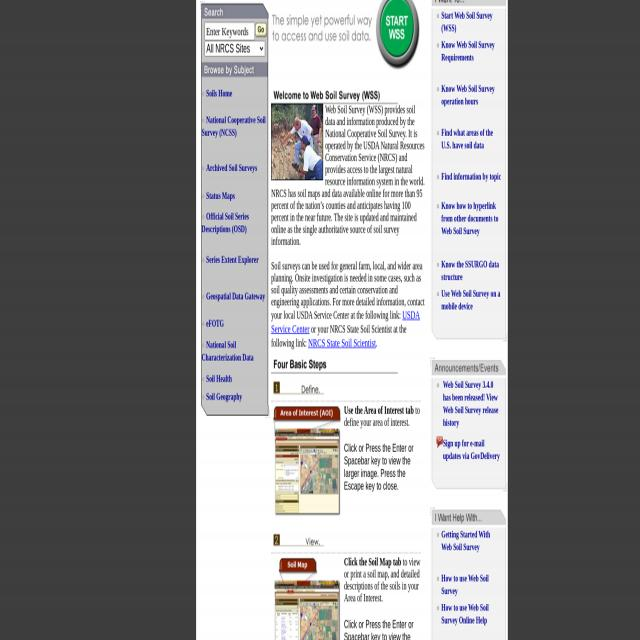button: (271, 0, 421, 71), (273, 404, 341, 519), (271, 104, 323, 180), (271, 356, 398, 374), (271, 87, 398, 104), (431, 358, 507, 376), (431, 508, 507, 524), (273, 381, 324, 395), (273, 533, 324, 547), (255, 23, 267, 37), (437, 436, 443, 448)
field: (205, 40, 265, 56), (204, 22, 256, 40)
